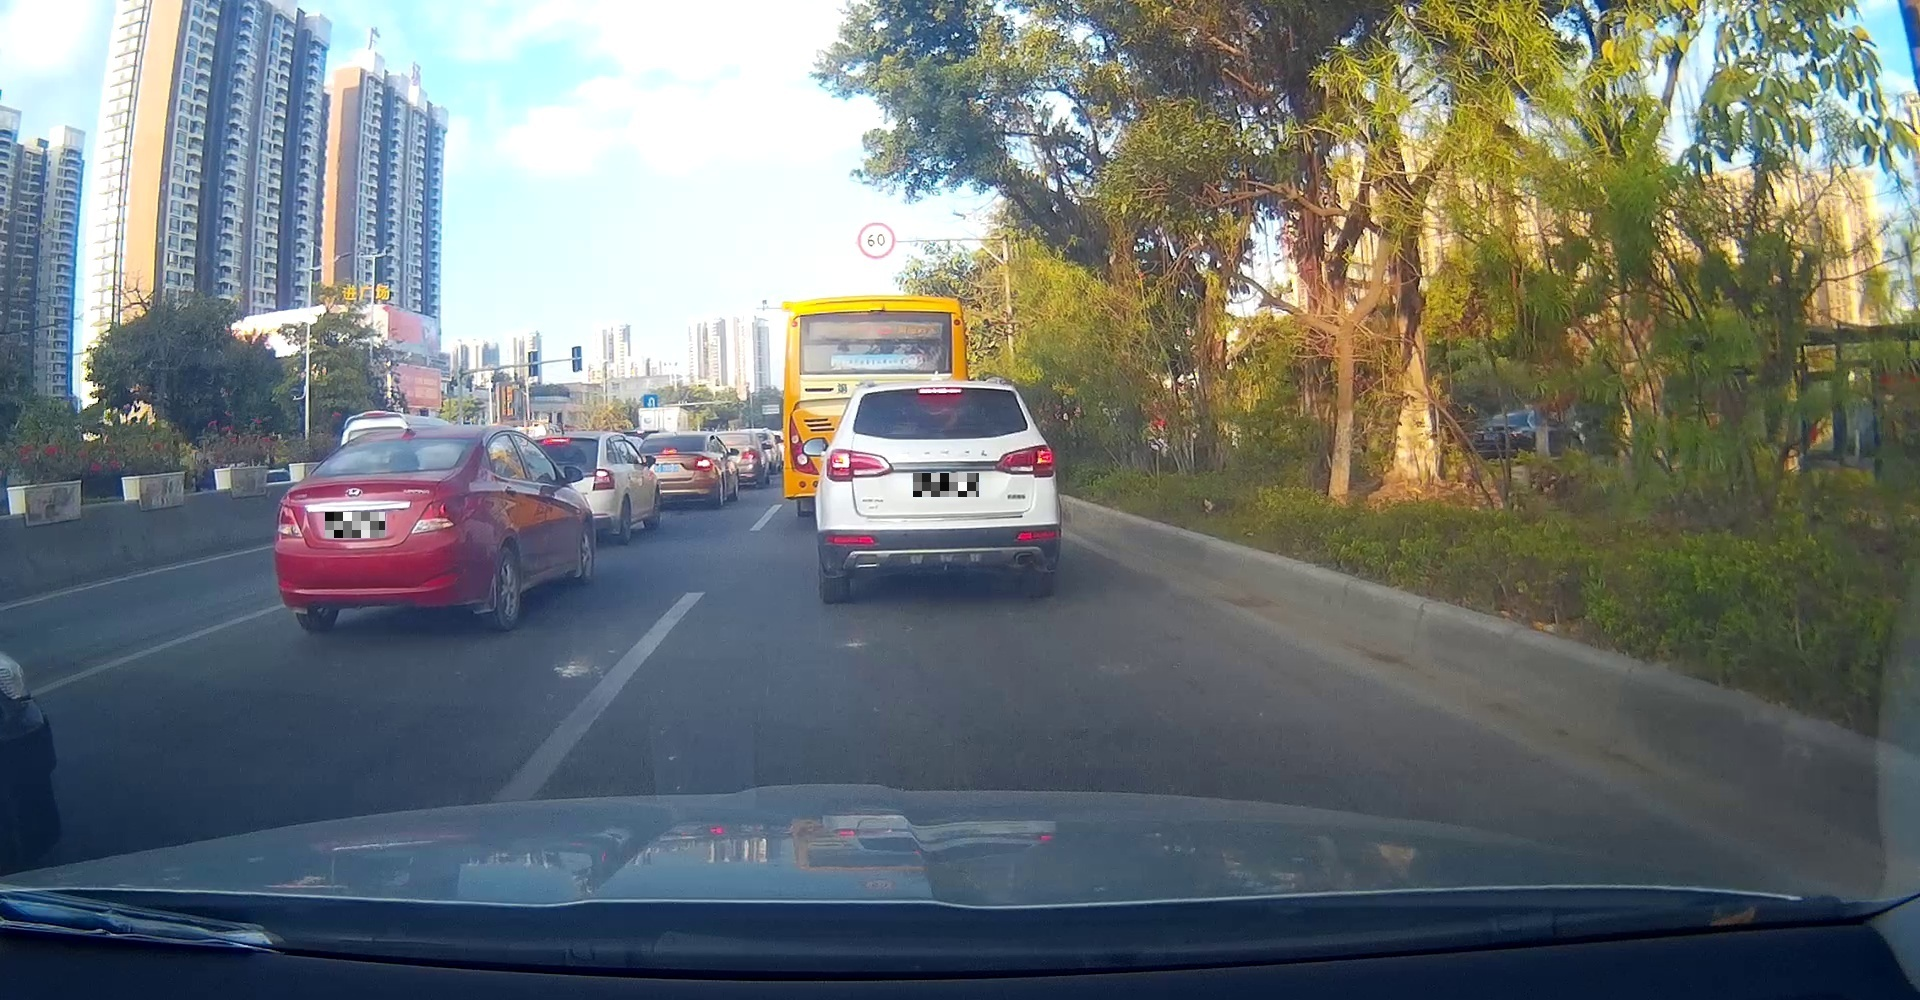L_light: (825, 449, 894, 484), (274, 503, 309, 539)
R_light: (411, 492, 485, 534), (996, 444, 1057, 478)
T_light: (917, 388, 963, 393), (362, 468, 390, 475)
day-brake: (815, 376, 1060, 602)
day-no: (272, 428, 486, 632)
plate_1: (325, 511, 385, 538)
plate_2: (913, 473, 979, 497)
